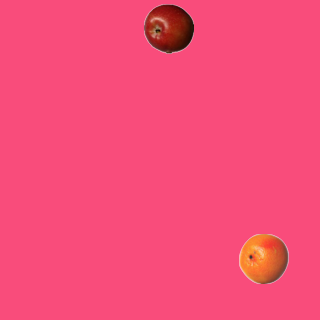Apple Braeburn: (143, 3, 193, 53)
Grapefruit Pink: (238, 233, 288, 283)
